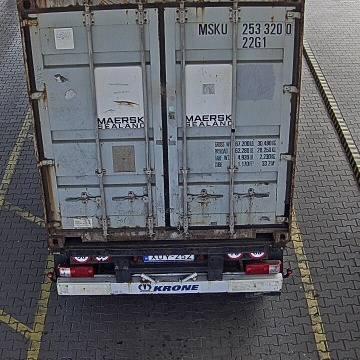serial_id: (199, 22, 293, 34)
